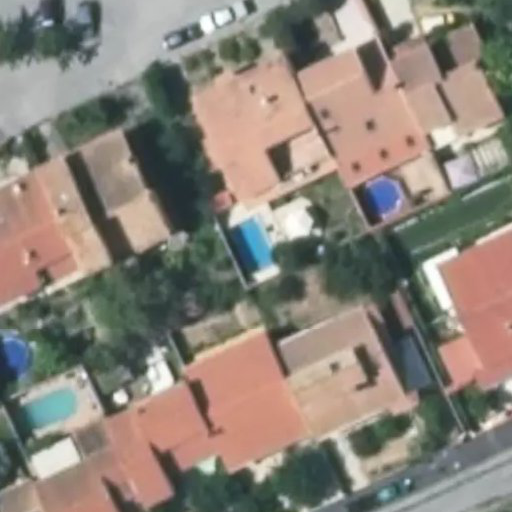pool: (11, 385, 84, 433), (224, 215, 276, 276), (361, 177, 403, 218), (1, 334, 31, 378)
